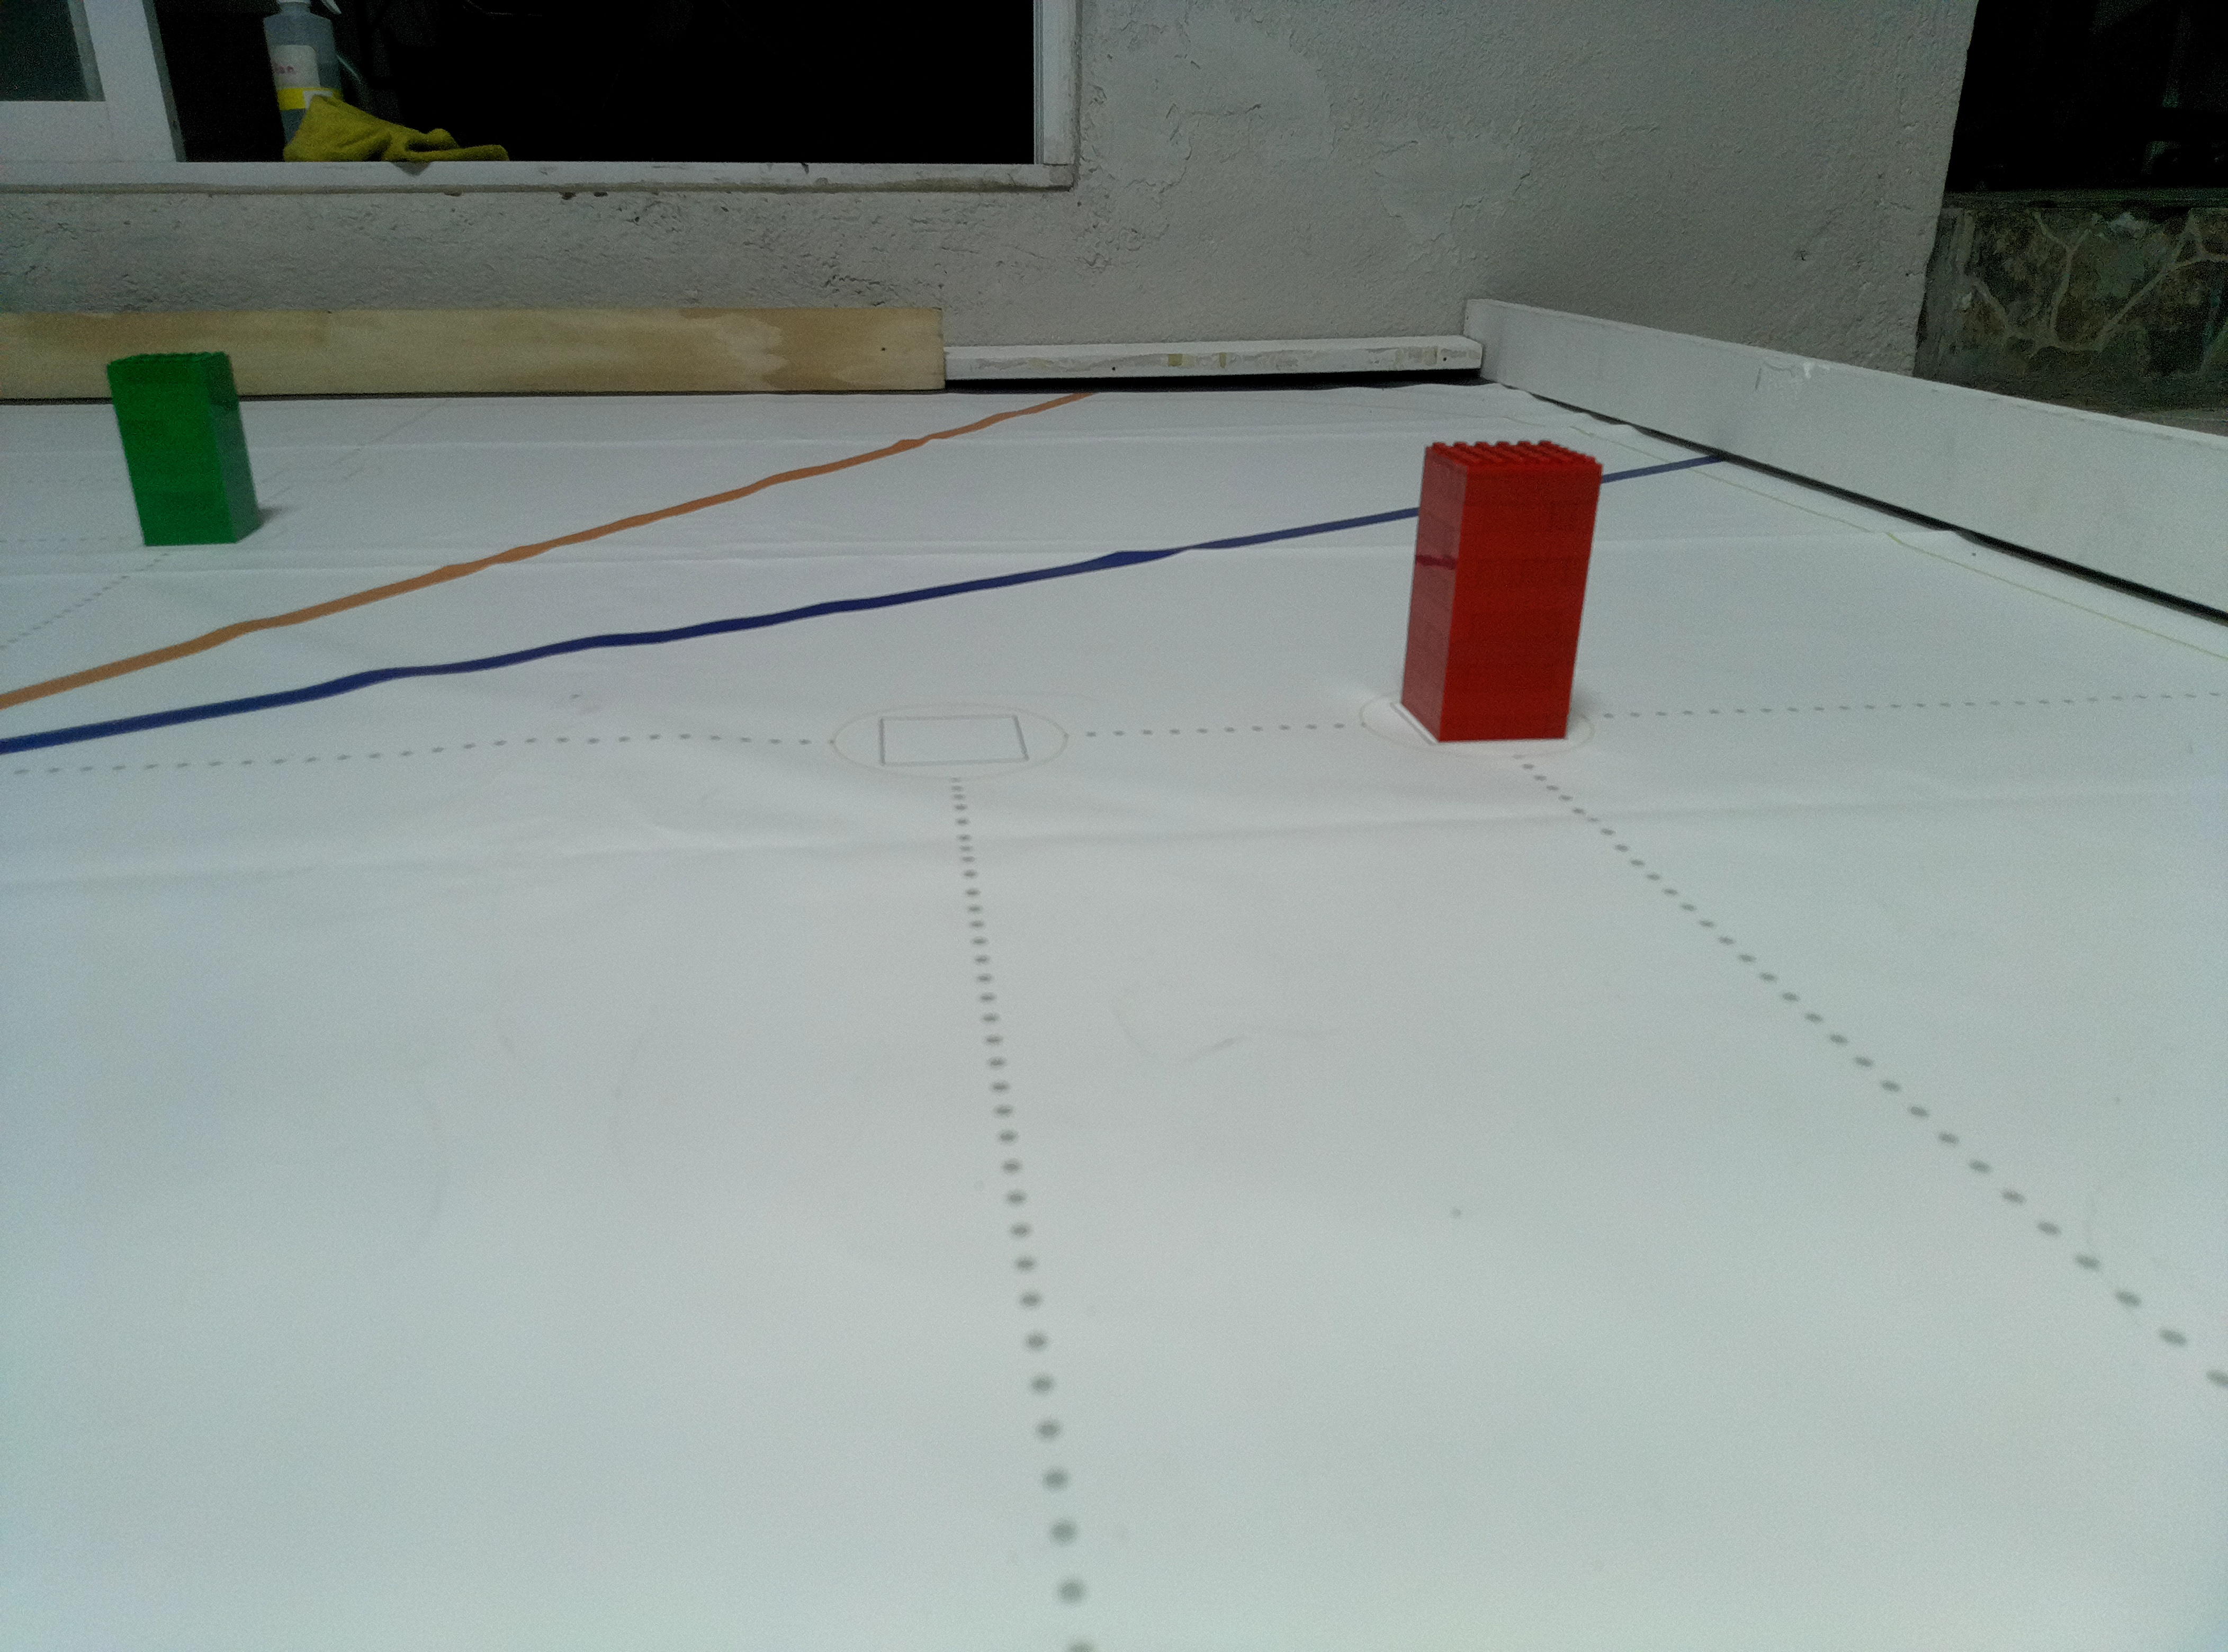greenbox: (99, 351, 269, 550)
redbox: (1397, 434, 1603, 748)
